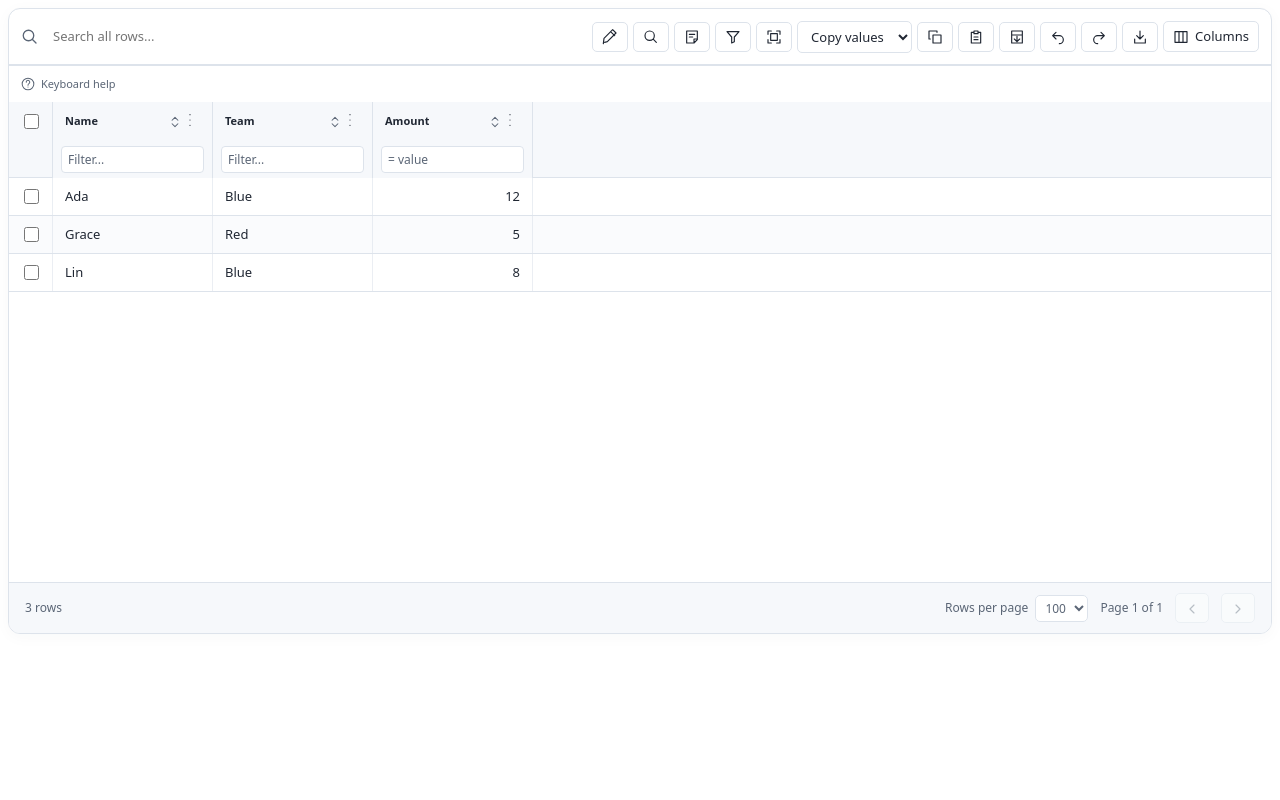
DataGrid column commands › focuses a native filter and opens the existing chooser without stealing their focus back
Click the button named "Column menu for Name". click: (190, 120)
box: 178,108 -> 202,132
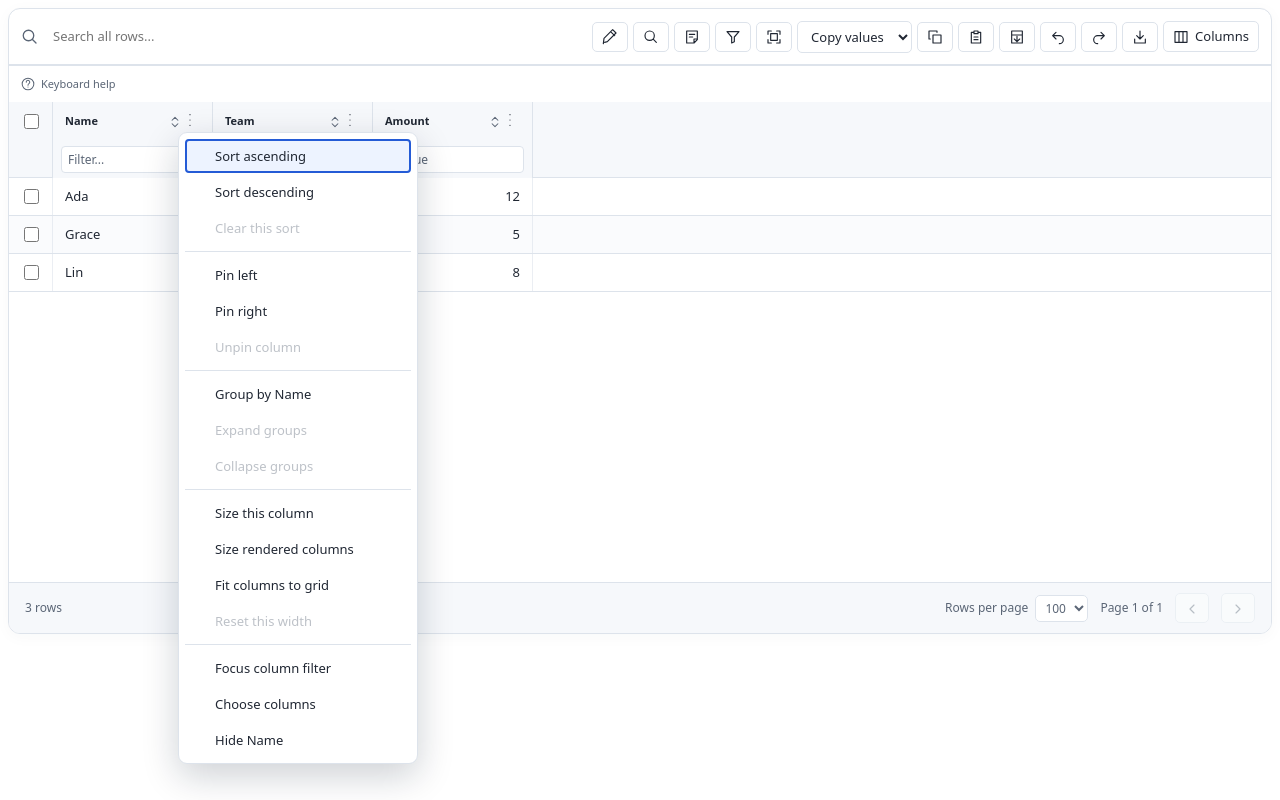
Click the menu item "Focus column filter". click: (298, 668)
box: 185,651 -> 411,685
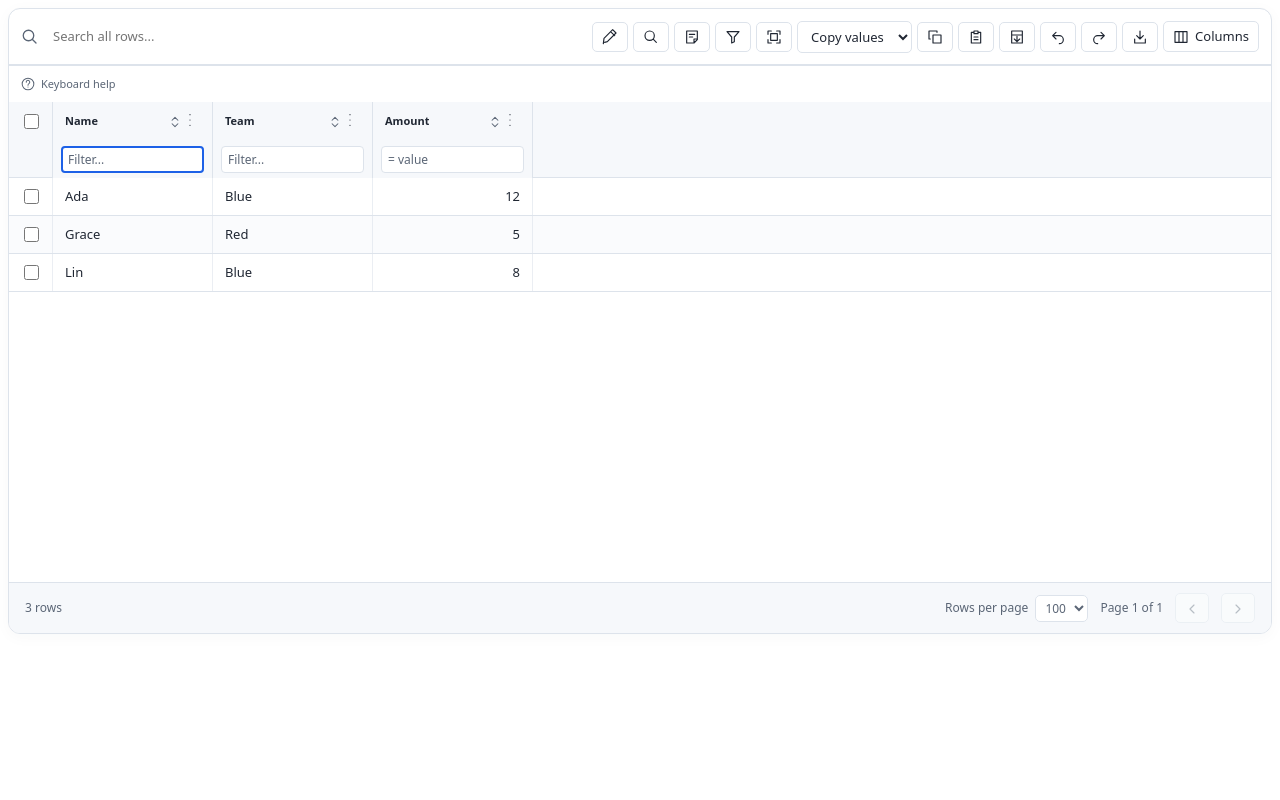
Type "Ada" into the field named "Filter Name". click: (132, 159)
box: 61,146 -> 204,172
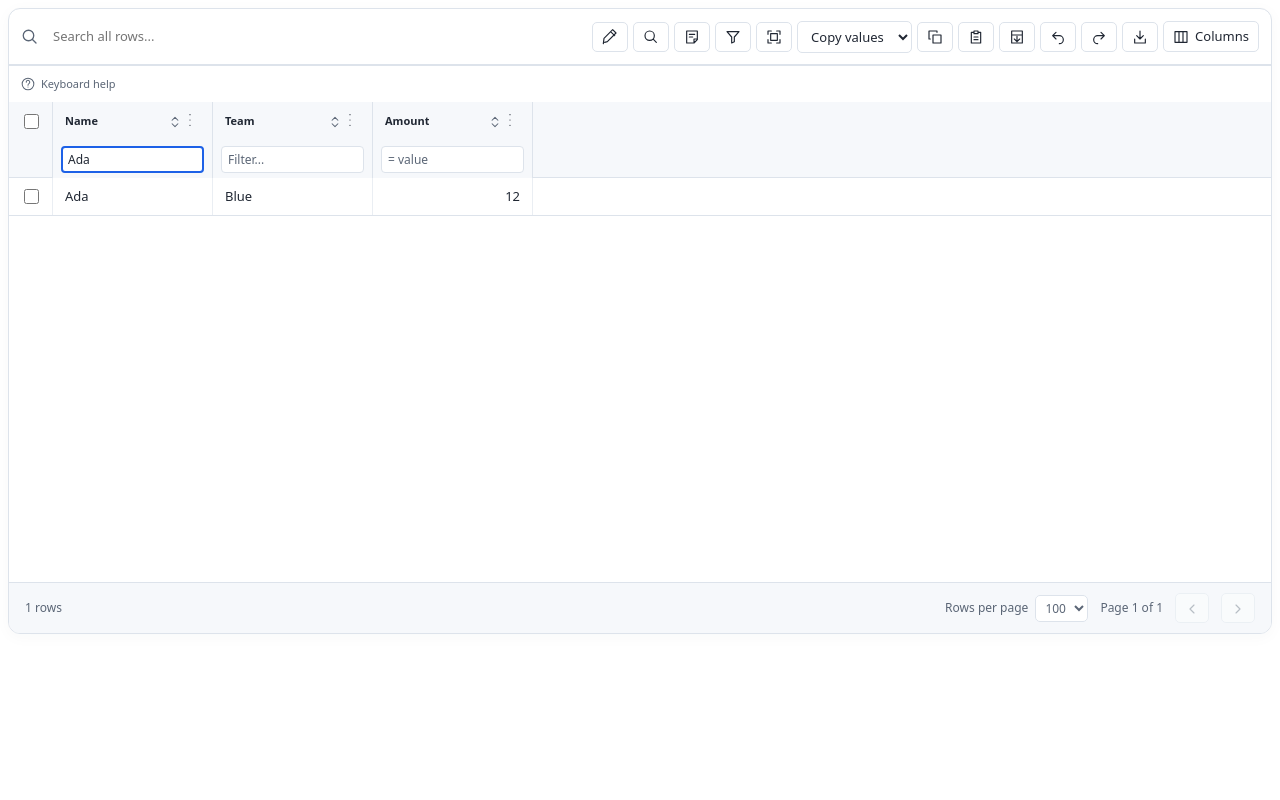
Click the button named "Column menu for Name". click: (190, 120)
box: 178,108 -> 202,132
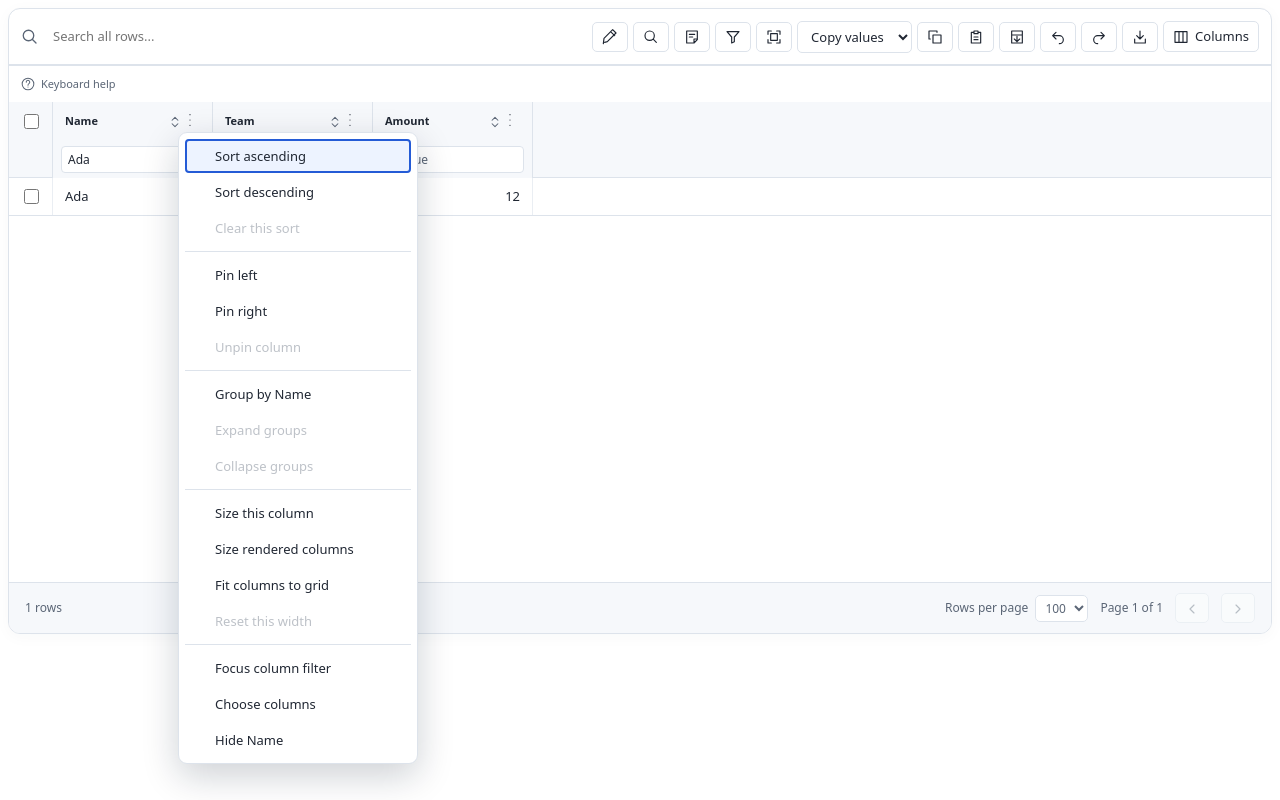
Click the menu item "Choose columns". click: (298, 704)
box: 185,687 -> 411,721
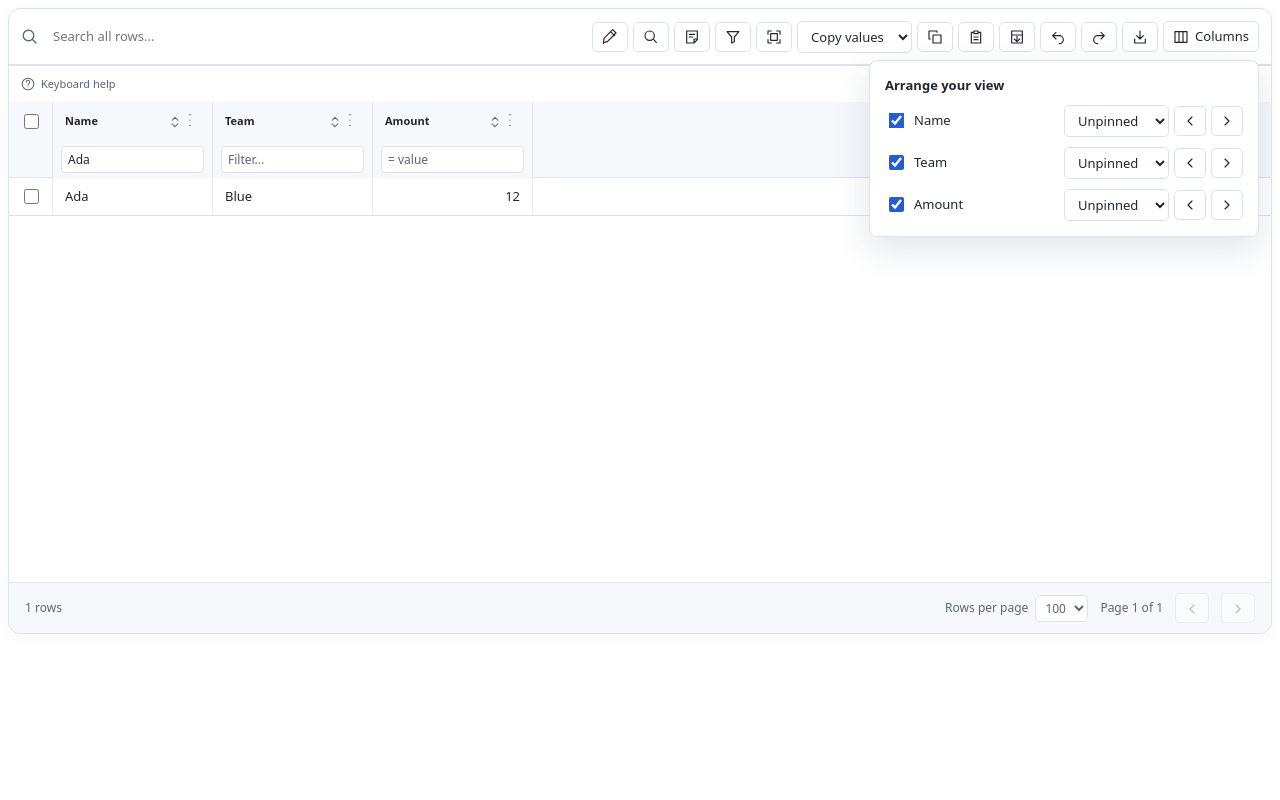
Expected: the element with class "og-chooser" is shown, 1163,21 -> 1259,52
Result: the menu is gone
